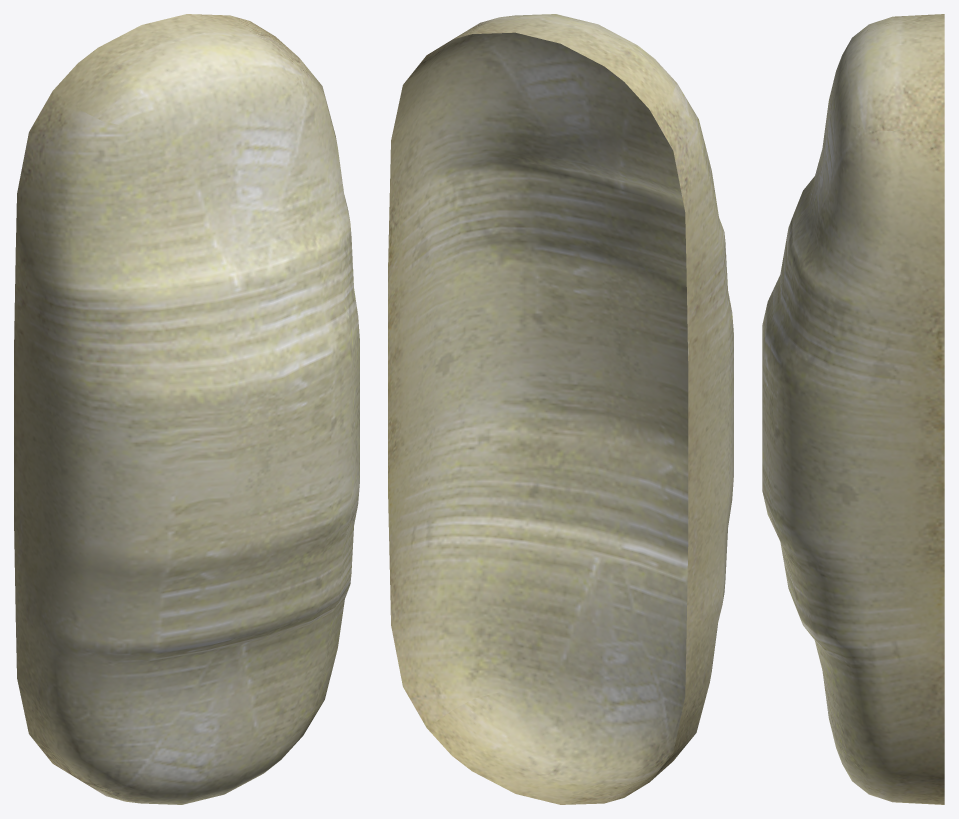
Rendered from bulb.fbx.
3 views of the same model, side by side, from view 1: azimuth 30°, elevation 25°; view 2: azimuth 150°, elevation 25°; view 3: azimuth 270°, elevation 25° (orthographic).
Visible parts, largest first — view 1: polySurface6; view 2: polySurface6; view 3: polySurface6.
Boxes of the visible parts, x1,y1,x2,y2 form: polySurface6: (14, 14, 359, 804); polySurface6: (388, 14, 733, 804); polySurface6: (762, 14, 944, 804).
Size of the model in its own units: 49.68 by 120 by 26.39.
